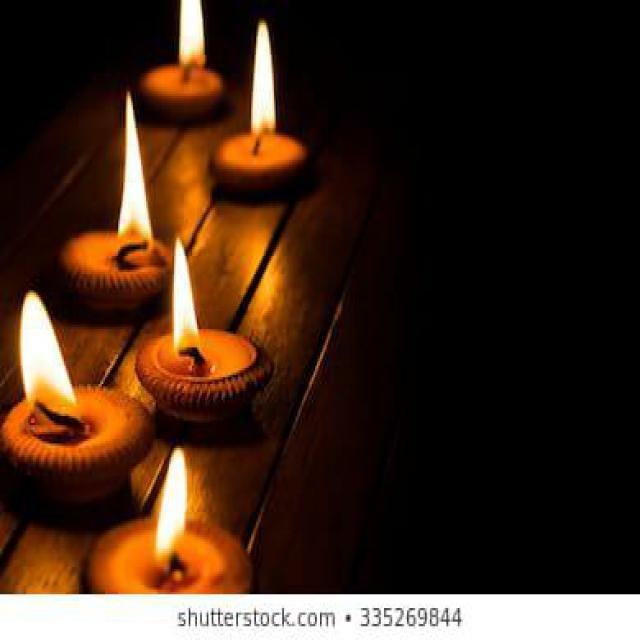Fire: (18, 292, 76, 419), (119, 89, 152, 249), (155, 448, 188, 560), (174, 240, 202, 359), (249, 20, 276, 140), (180, 0, 204, 69)
